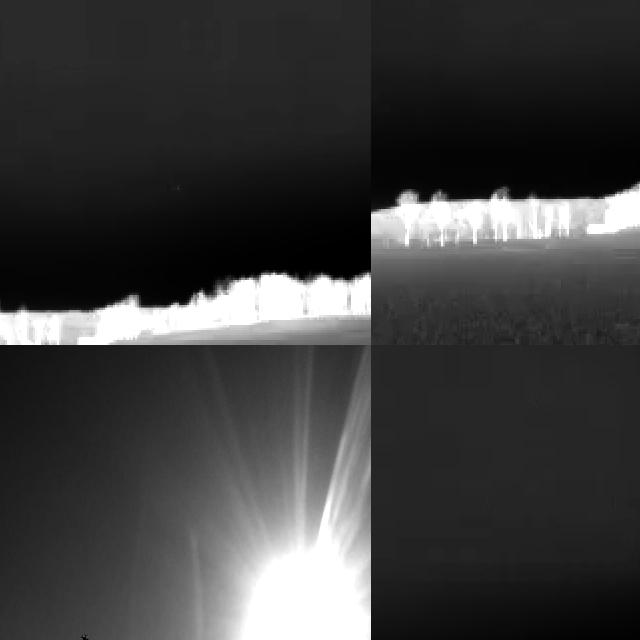0: (163, 174, 189, 208)
drone: (74, 622, 92, 640)
